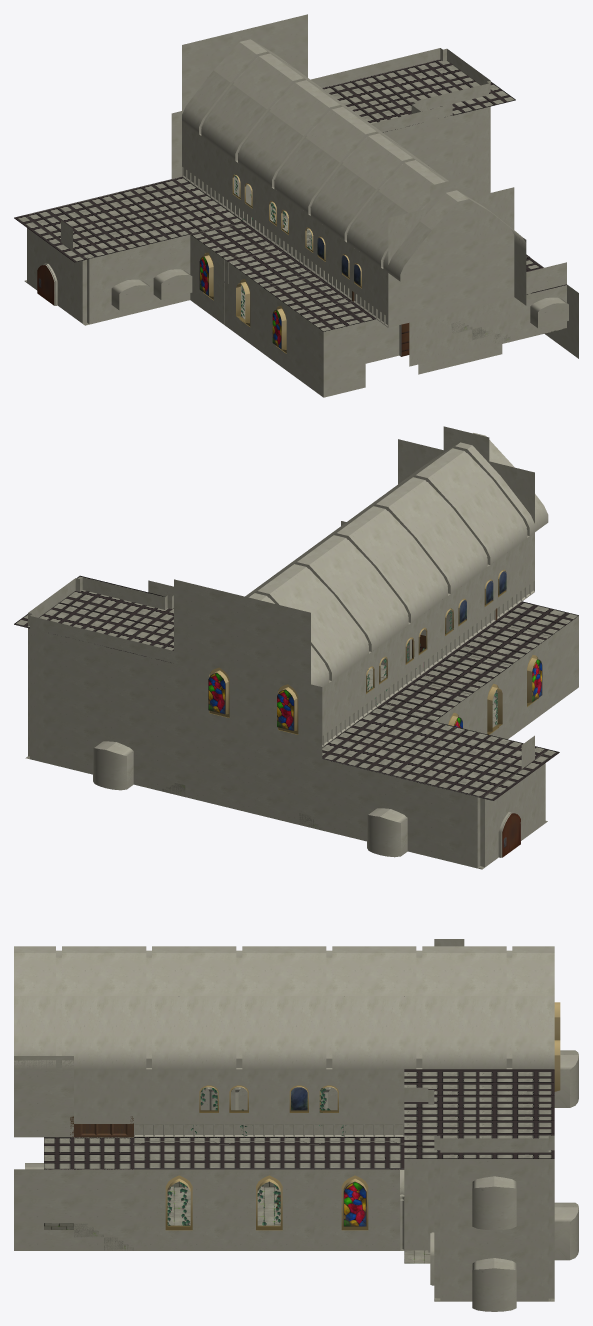
Rendered from ChurchConstructed2.fbx.
3 views of the same model, one above another, from view 1: azimuth 30°, elevation 25°; view 2: azimuth 150°, elevation 25°; view 3: azimuth 270°, elevation 25° (orthographic). The views are drawn at different scales.
Visible parts, largest first — view 1: SM_CeilingSlant20; view 2: SM_CeilingSlant20; view 3: SM_CeilingSlant20.
Boxes of the visible parts, x1,y1,x2,y2 form: SM_CeilingSlant20: [14, 14, 578, 397]; SM_CeilingSlant20: [14, 426, 578, 869]; SM_CeilingSlant20: [14, 939, 578, 1311].
Bounding box in the file's own units: 21.31 × 9.06 × 18.81.
